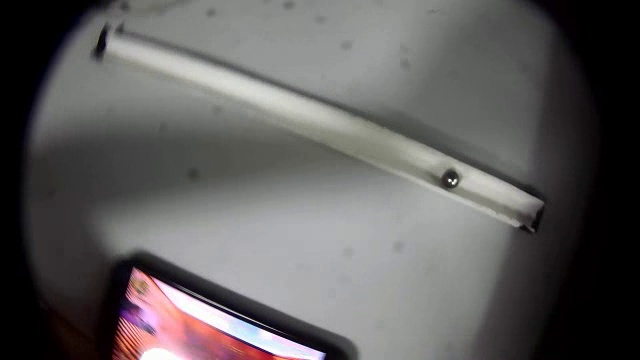gangzhu: (441, 169, 461, 189)
